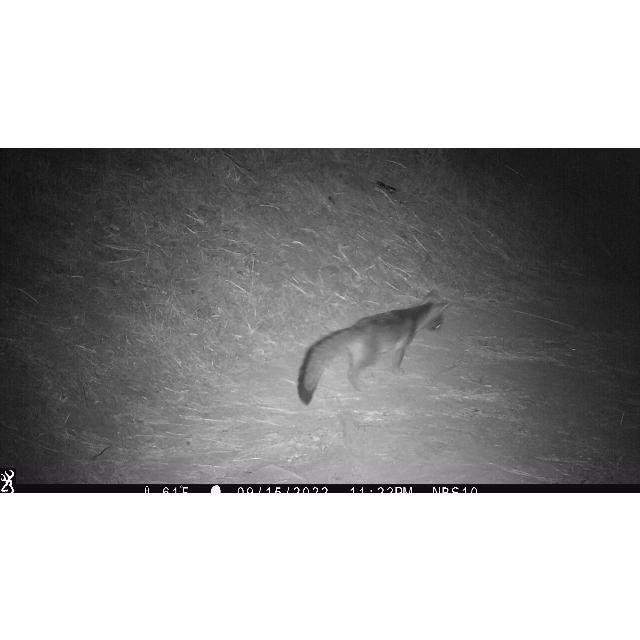animals: (297, 300, 453, 404)
